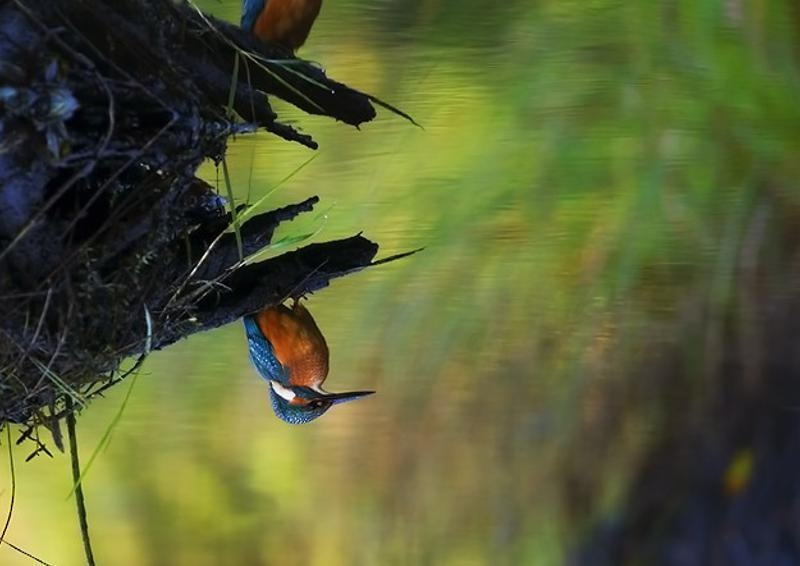kingfisher: (230, 303, 375, 430)
